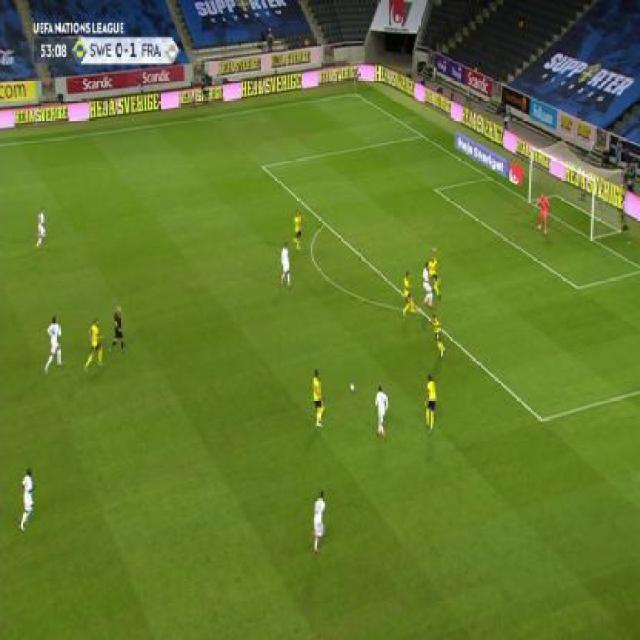ball: (349, 381, 357, 394)
player: (16, 465, 39, 533), (83, 315, 105, 374), (310, 489, 329, 557), (44, 313, 64, 375), (108, 303, 127, 356), (422, 371, 438, 433), (311, 367, 327, 429), (373, 383, 390, 440), (428, 313, 447, 359), (400, 270, 417, 318), (535, 190, 552, 236), (279, 241, 293, 289), (429, 251, 443, 297), (421, 260, 434, 309), (34, 205, 48, 250), (290, 209, 304, 252)
